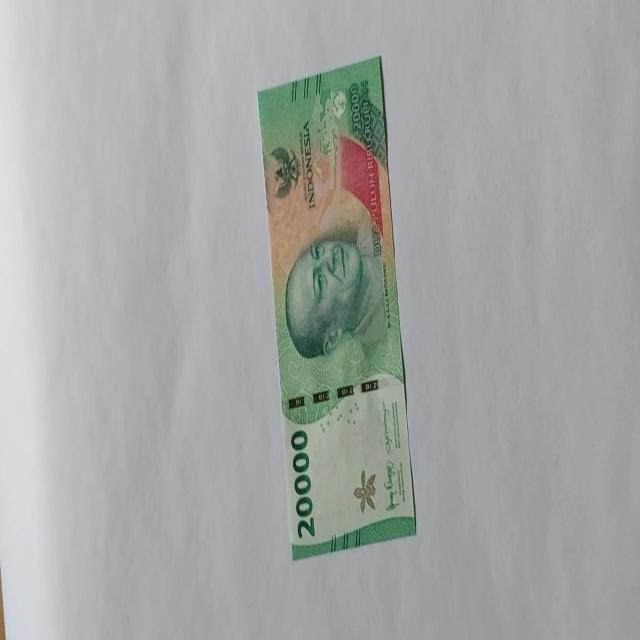dua puluh ribu rupiah: (255, 54, 418, 559), (283, 217, 388, 363)
